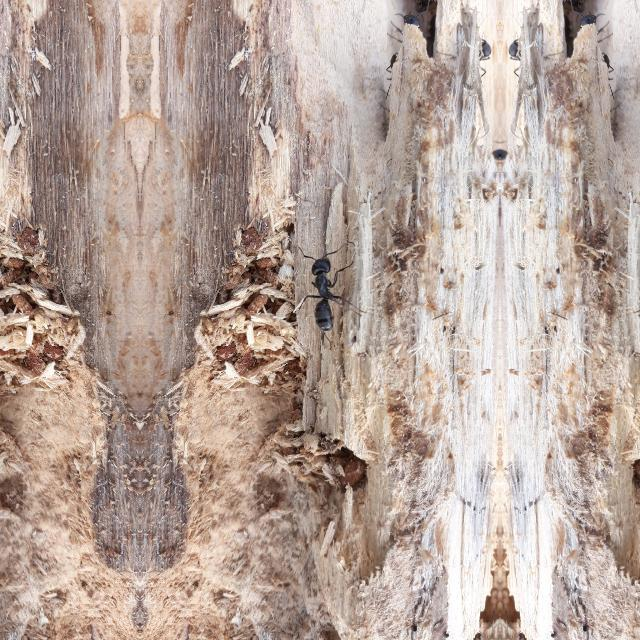Camponotus: (288, 238, 354, 344)
